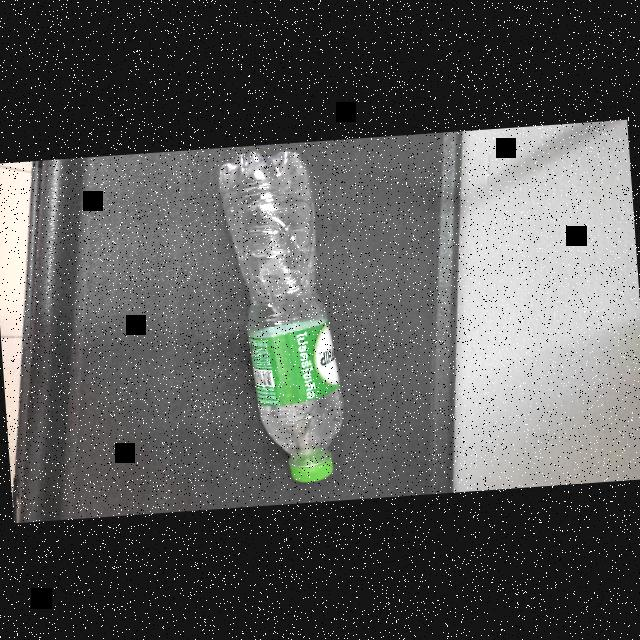plastic_bottle: (208, 143, 354, 498)
plastic_bottle_cap: (283, 448, 335, 484)
